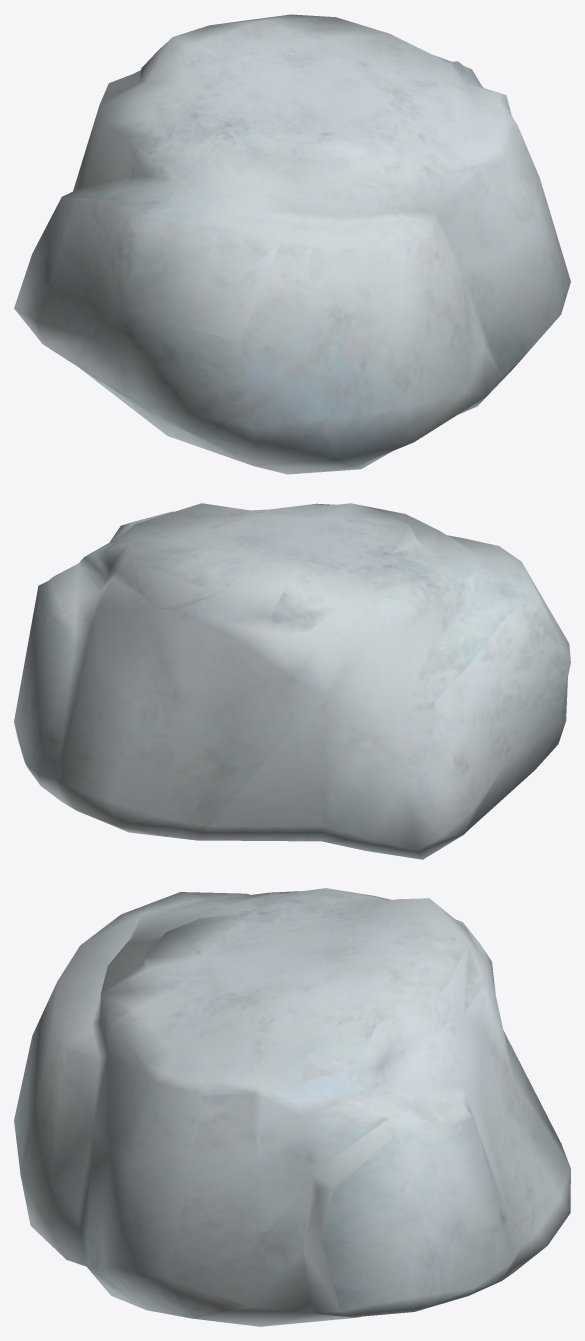
The model's file is P_RockDesert_Rock12.obj.
3 views of the same model, one above another, from view 1: azimuth 30°, elevation 25°; view 2: azimuth 150°, elevation 25°; view 3: azimuth 270°, elevation 25° (orthographic). The views are drawn at different scales.
Bounding box in the file's own units: 2.64 × 1.72 × 2.48.
